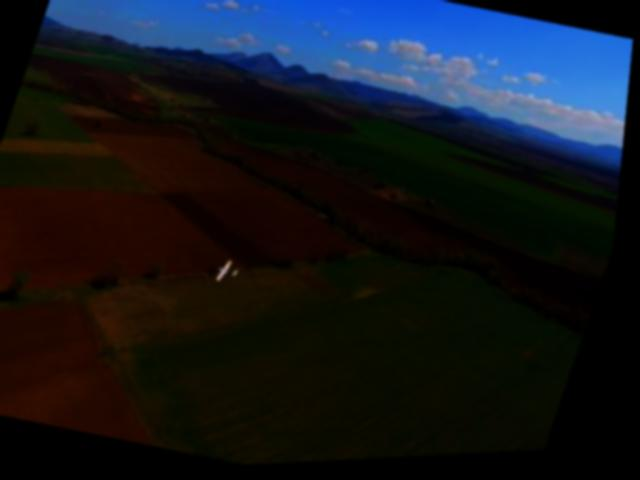uav: (214, 252, 254, 293)
